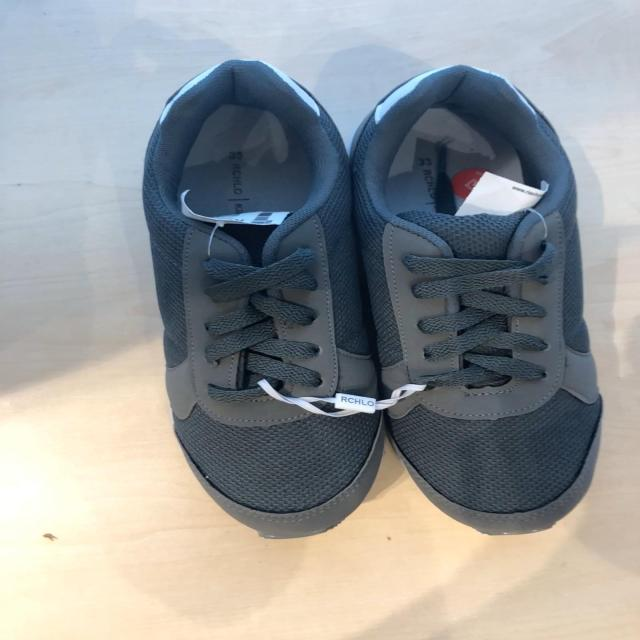shoe: (352, 61, 605, 541), (140, 59, 384, 529)
